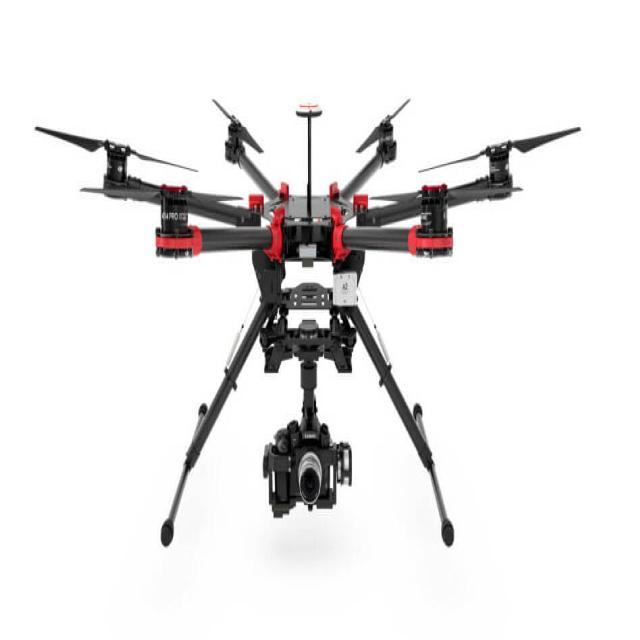drone: (23, 44, 575, 582)
